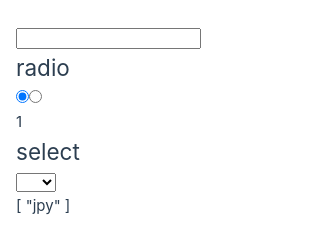
Test case: Form › input
Step 1. Type "123" into the field with test id "input" → coordinates (108, 38), box [16, 28, 201, 49]
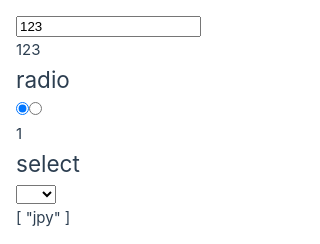
Result: the text "123" is shown at [16, 40, 40, 59]
